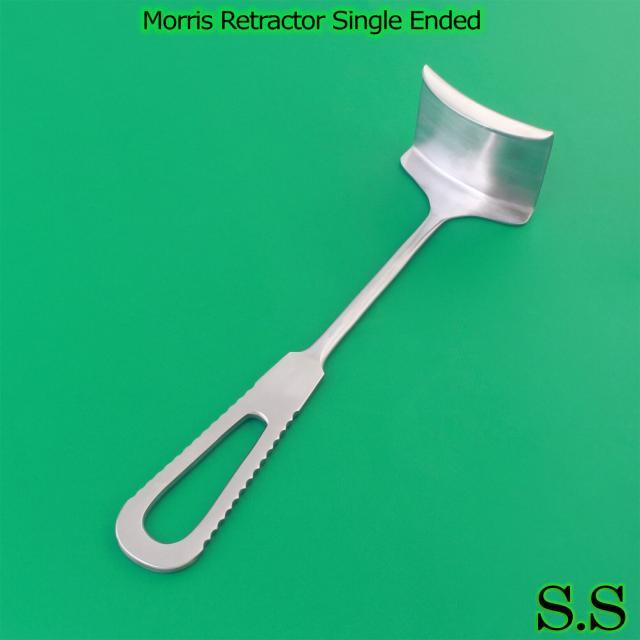Morris Retractor: (100, 63, 556, 582)
